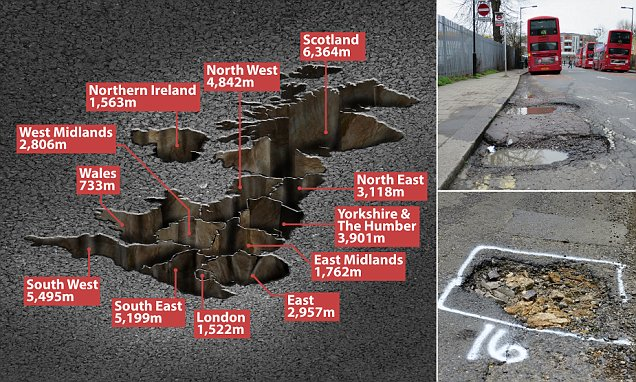pothole: (482, 246, 620, 341), (470, 124, 629, 181), (491, 89, 584, 119)
